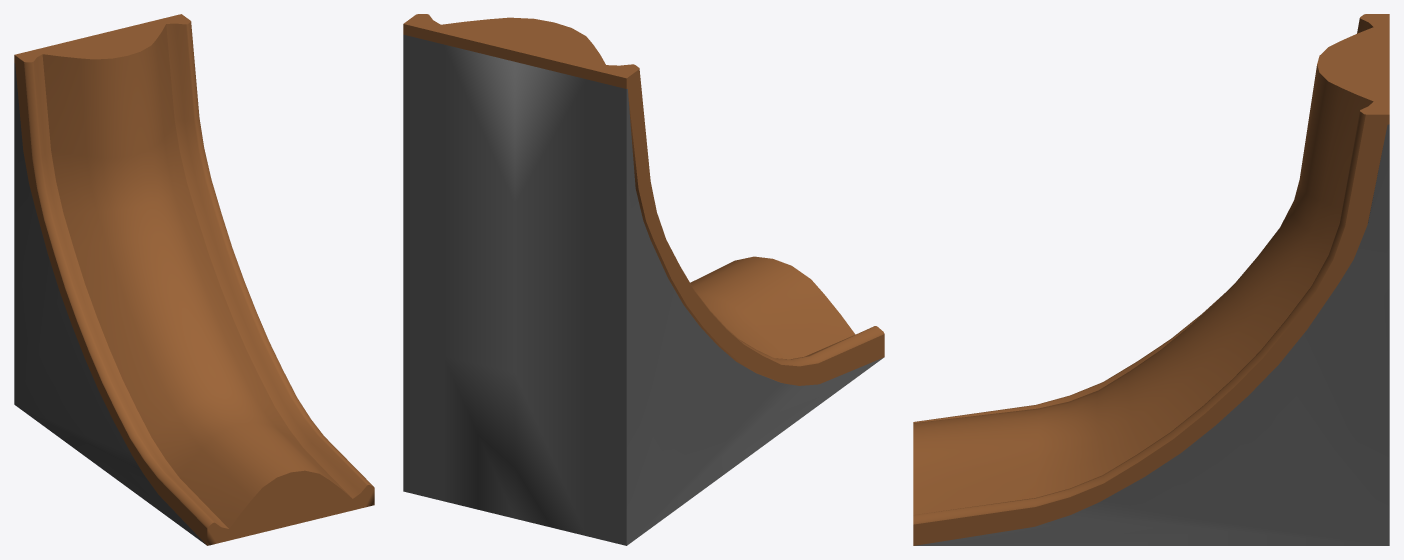
Rendered from 36_38_wall_deco_round_corner_no_wood_gray.glb.
The picture shows the model from 3 angles, left to right: view 1: azimuth 30°, elevation 25°; view 2: azimuth 150°, elevation 25°; view 3: azimuth 270°, elevation 25°; orthographic projection. The views are drawn at different scales.
Parts seen in each view (by area): view 1: Plane, Plane.001; view 2: Plane.001, Plane; view 3: Plane, Plane.001.
Part boxes in pixels (x1,y1,x2,y2): Plane: [14, 14, 374, 545]; Plane.001: [14, 63, 206, 545]; Plane.001: [403, 34, 883, 545]; Plane: [403, 14, 884, 385]; Plane: [913, 14, 1389, 545]; Plane.001: [915, 124, 1389, 545].
Size of the model in its own units: 0.75 by 1.5 by 1.5.
